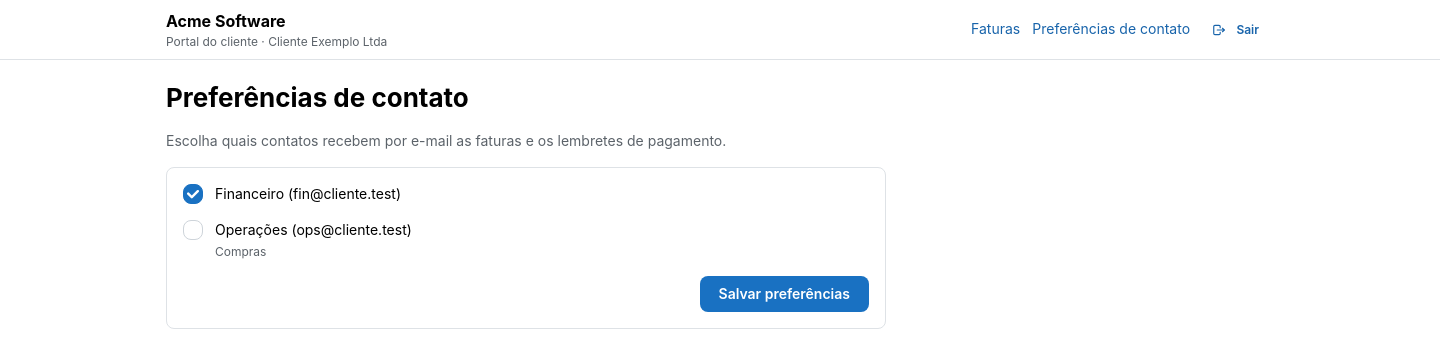
Scenario: portal do cliente › preferências enviam o token CSRF do portal e gravam a escolha de cada contato
What coordinates should you click on to do the following:
click the checkbox labelled "Operações (ops@cliente.test)"
I would click on:
 (193, 230)
Its box is [183, 220, 203, 240].
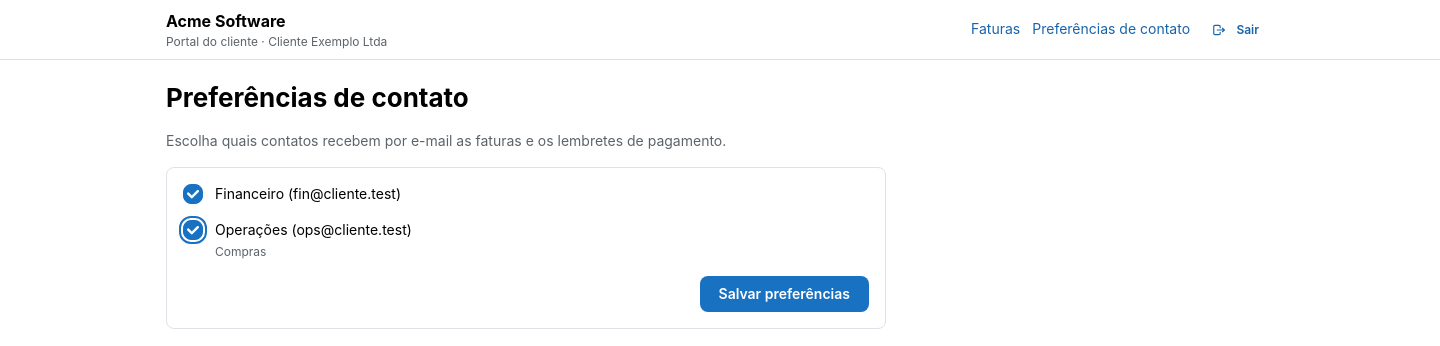
What coordinates should you click on to do the following:
click the checkbox labelled "Financeiro (fin@cliente.test)"
I would click on:
 (193, 194)
Its box is [183, 184, 203, 204].
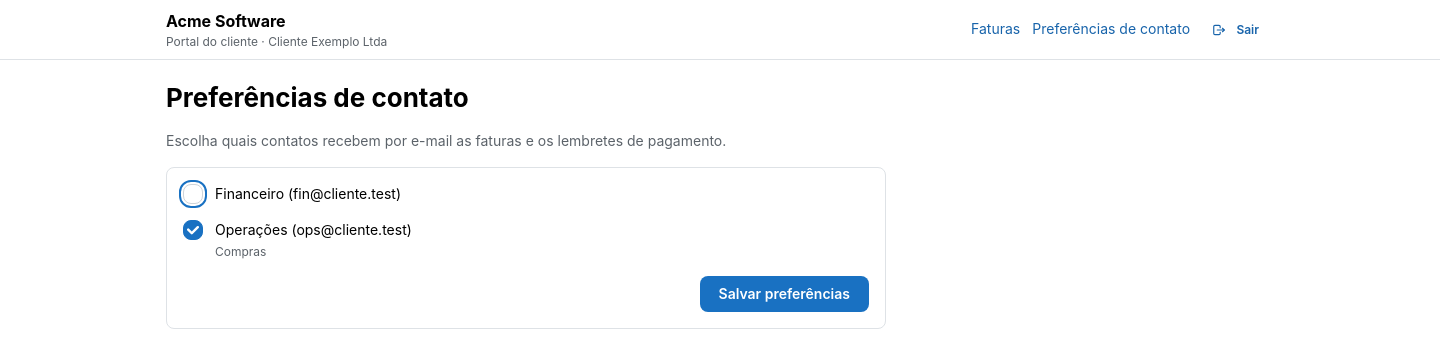
What coordinates should you click on to do the following:
click the button "Salvar preferências"
I would click on:
 (784, 294)
Its box is [700, 276, 869, 312].
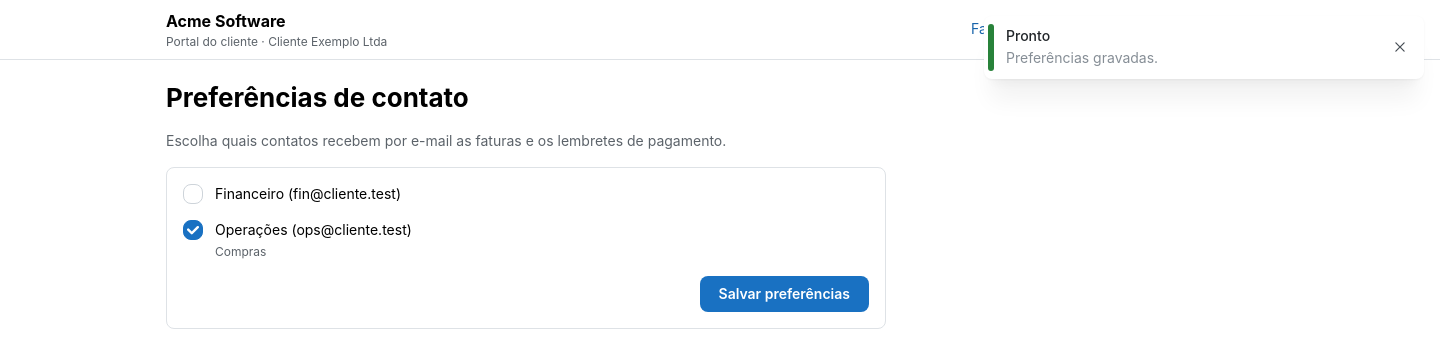
Expected: the text "Preferências gravadas." is shown, [1006, 49, 1158, 66]
